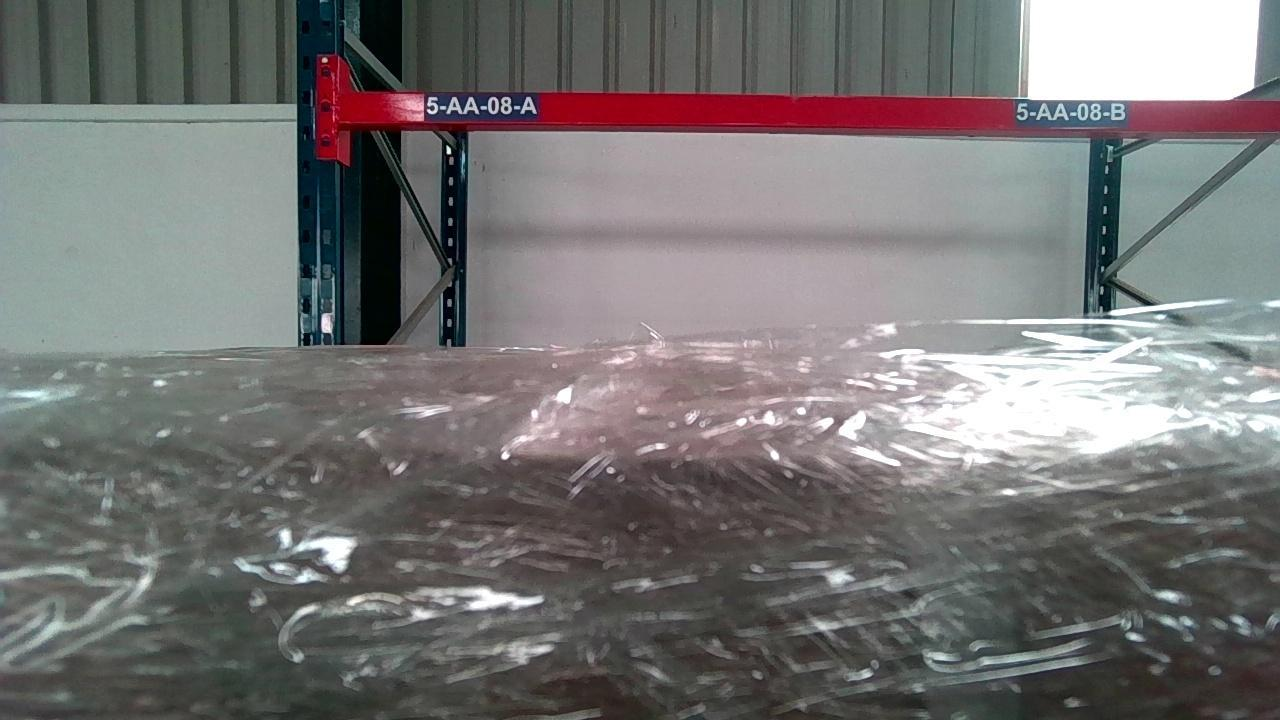h_rack: (342, 91, 1277, 131)
